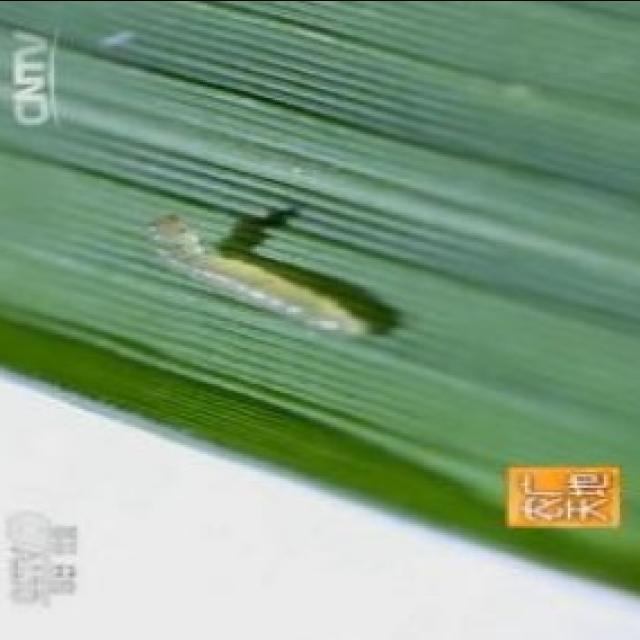rice leaf roller: (149, 216, 392, 336)
